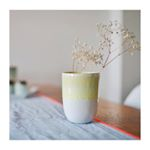cups: (60, 70, 103, 126)
